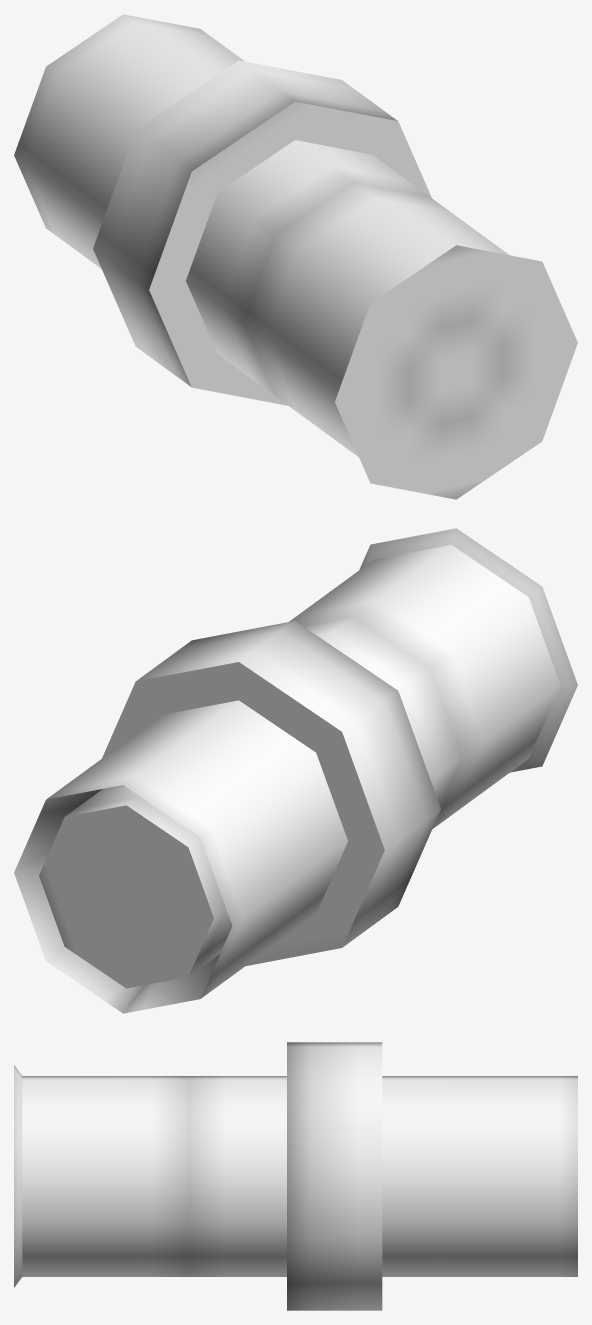
Rendered from casings.obj.
3 renders of one model, top to bottom at view 1: azimuth 30°, elevation 25°; view 2: azimuth 150°, elevation 25°; view 3: azimuth 270°, elevation 25°, orthographic. The views are drawn at different scales.
Parts seen in each view (by area): view 1: ShotgunCase, AR2, Shotgun; view 2: AR2, Shotgun, ShotgunCase; view 3: Shotgun, ShotgunCase, AR2.
Part boxes in pixels (x1,y1,x2,y2): ShotgunCase: (233,174,577,499); AR2: (93,60,431,405); Shotgun: (14,14,418,387); AR2: (39,621,440,988); Shotgun: (14,625,451,1013); ShotgunCase: (289,528,577,828); Shotgun: (207,1076,577,1276); ShotgunCase: (14,1065,207,1287); AR2: (287,1042,382,1310).
Bounding box in the file's own units: 1.2 × 1.2 × 2.37.
